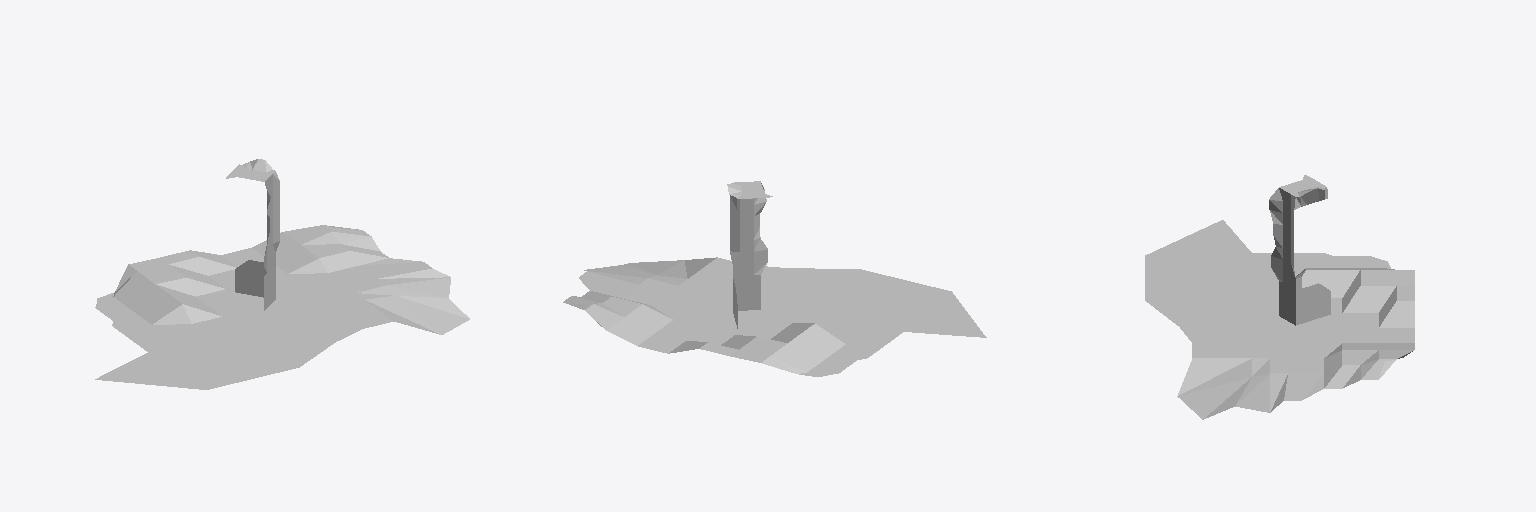
Rendered from mask6.obj.
3 views of the same model, side by side, from view 1: azimuth 30°, elevation 25°; view 2: azimuth 150°, elevation 25°; view 3: azimuth 270°, elevation 25° (orthographic).
Visible parts, largest first — view 1: Mask; view 2: Mask; view 3: Mask.
Boxes of the visible parts, x1=… form: Mask: x1=95, y1=159, x2=469, y2=389; Mask: x1=563, y1=181, x2=986, y2=376; Mask: x1=1145, y1=175, x2=1414, y2=419.
Bounding box in the file's own units: 12121 × 4752 × 7436.